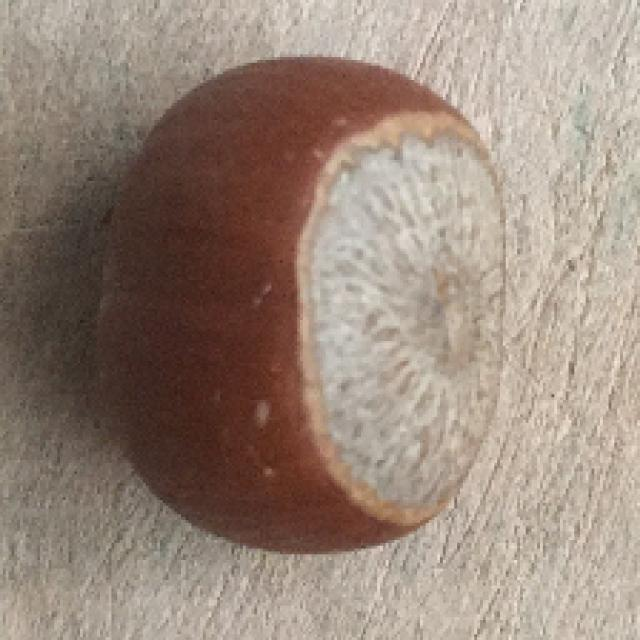qualityHazelnut: (96, 55, 502, 558)
